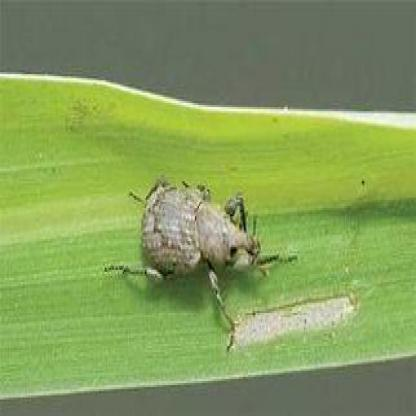rice-bug: (128, 172, 262, 330)
